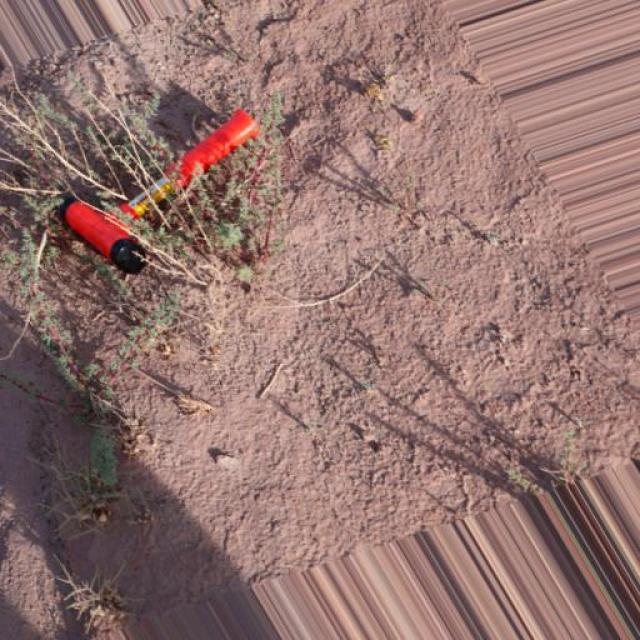mallet: (54, 105, 260, 274)
